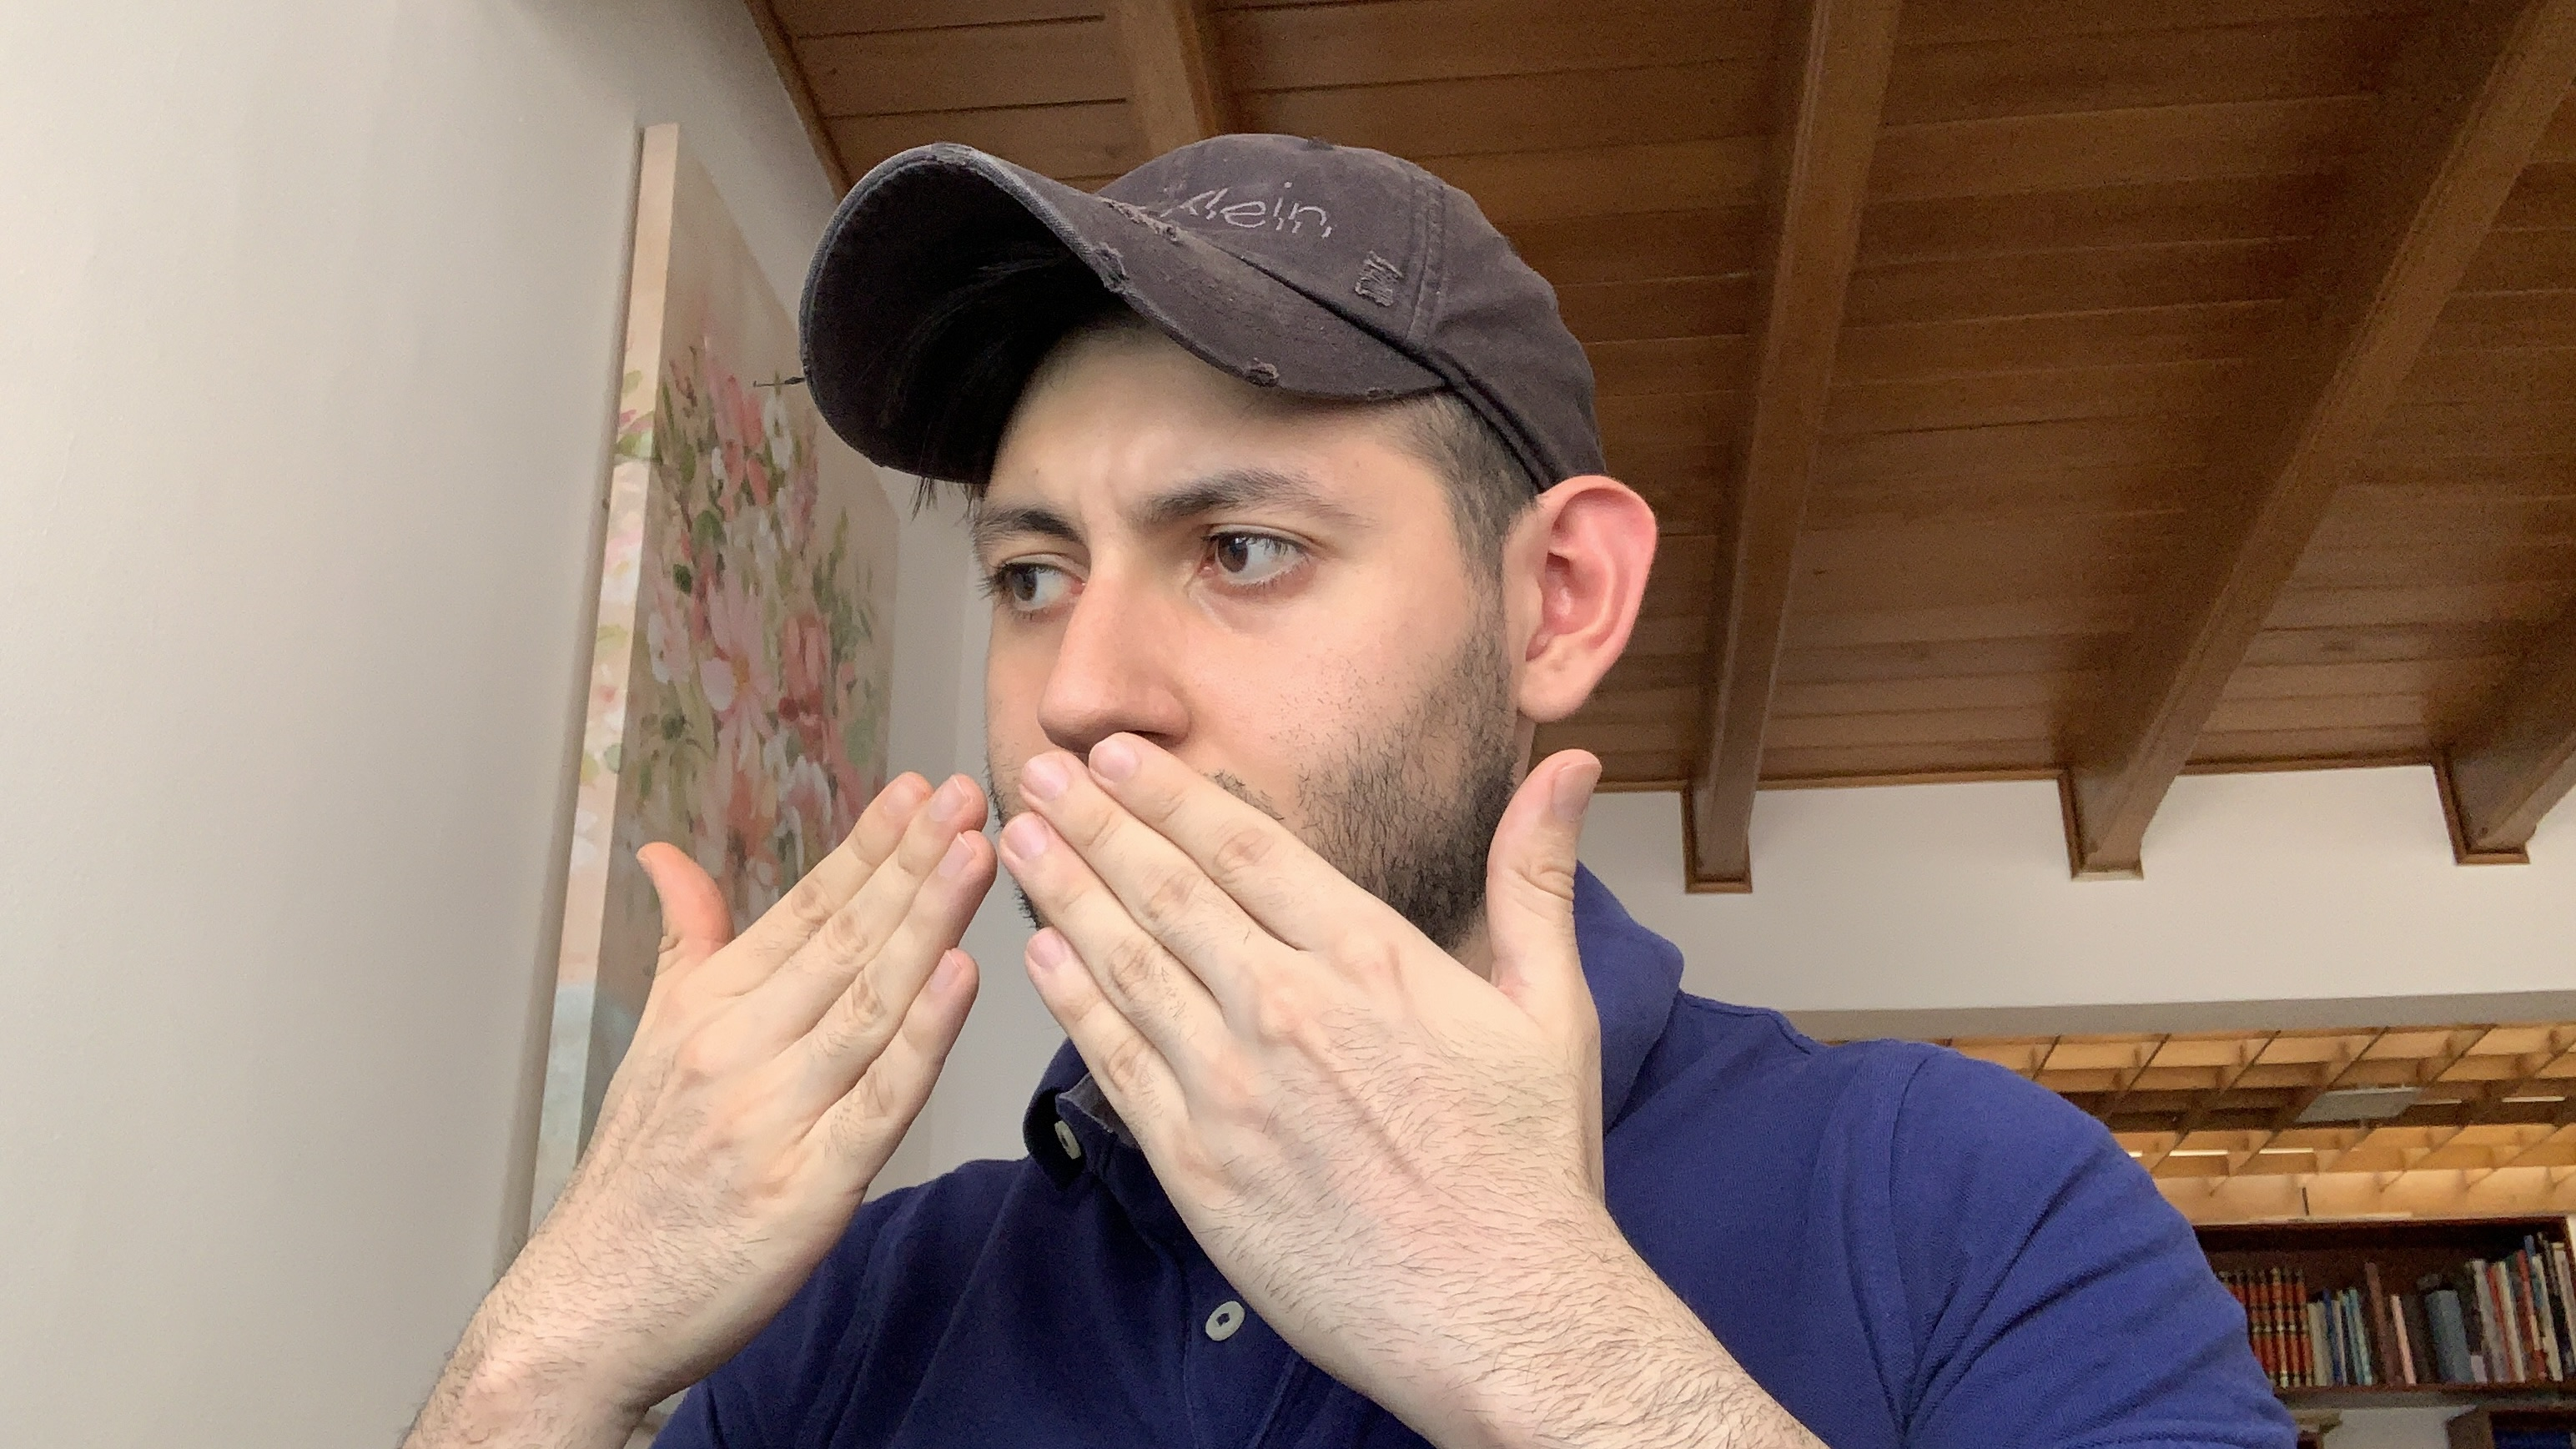Thank You: (541, 729, 1631, 1387)
